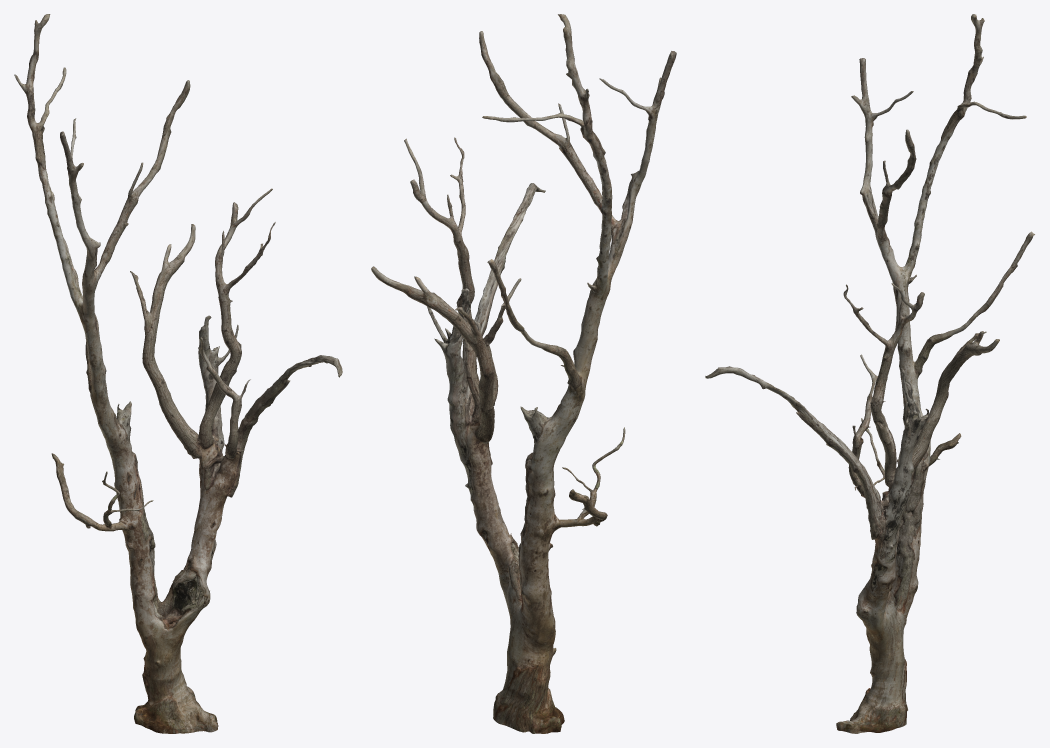
The model's file is DeadTree03.fbx.
The picture shows the model from 3 angles, left to right: view 1: azimuth 30°, elevation 25°; view 2: azimuth 150°, elevation 25°; view 3: azimuth 270°, elevation 25°; orthographic projection. The views are drawn at different scales.
Visible parts, largest first — view 1: Obj3d66-598285-1-365; view 2: Obj3d66-598285-1-365; view 3: Obj3d66-598285-1-365.
Part boxes in pixels (x1,y1,x2,y2): Obj3d66-598285-1-365: (14, 14, 342, 733); Obj3d66-598285-1-365: (371, 14, 676, 733); Obj3d66-598285-1-365: (705, 14, 1034, 733).
Size of the model in its own units: 215 by 622 by 277.
